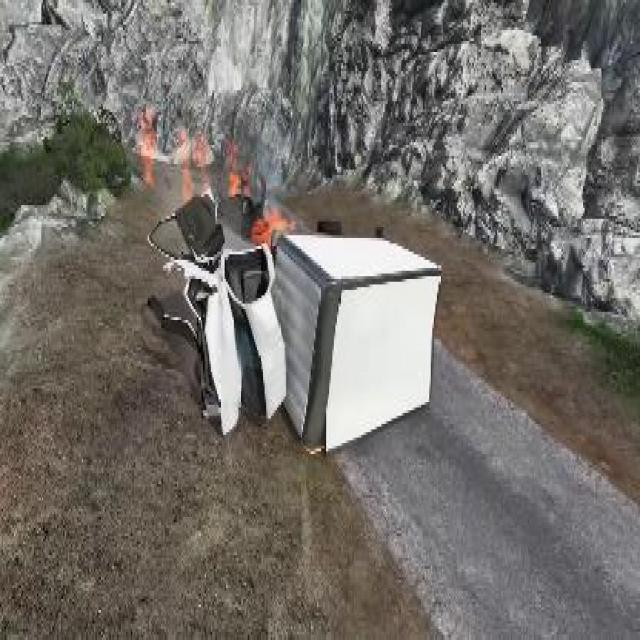accident: (146, 184, 446, 471)
